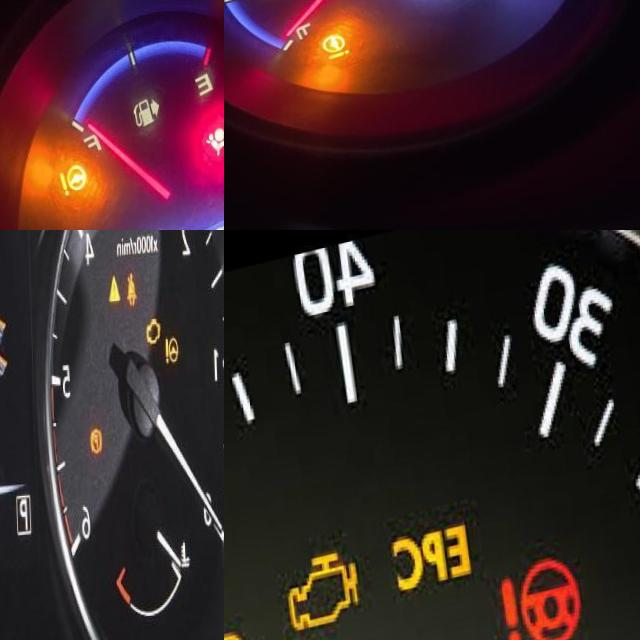Electronic Power Steering: (498, 566, 579, 640), (53, 163, 90, 205), (316, 32, 356, 68), (162, 344, 184, 375)
Seat Belt: (123, 278, 139, 317)
